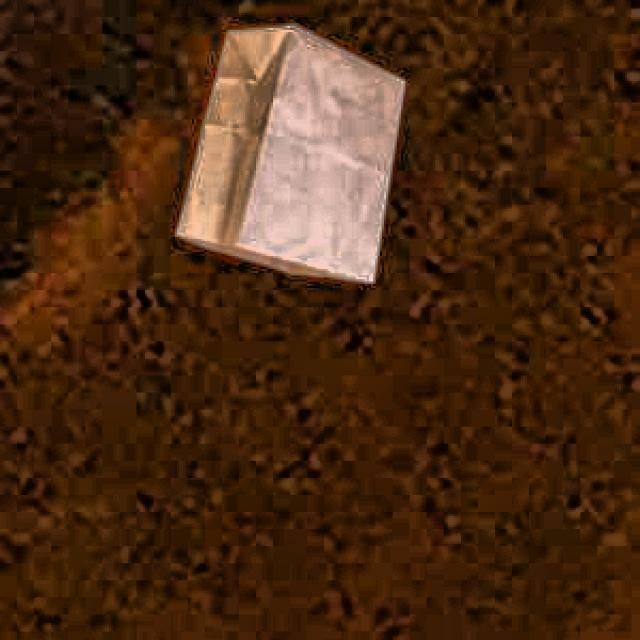Paper-bag: (165, 13, 398, 288)
